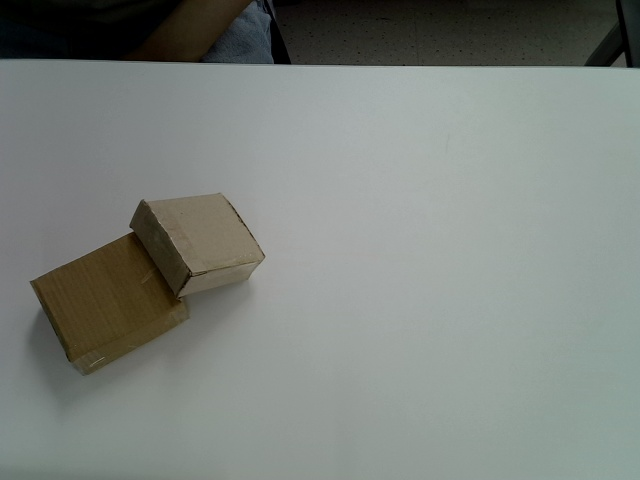normal: (30, 228, 192, 377), (129, 192, 266, 296)
